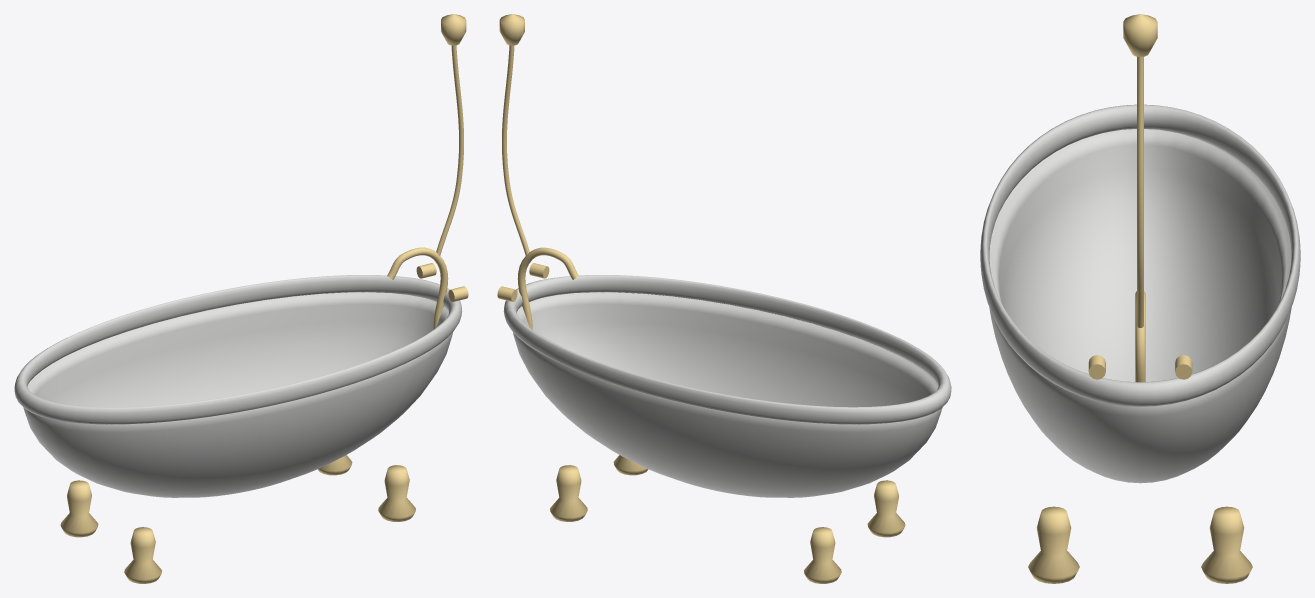
Rendered from bathtub.glb.
The picture shows the model from 3 angles, left to right: view 1: azimuth 30°, elevation 25°; view 2: azimuth 150°, elevation 25°; view 3: azimuth 270°, elevation 25°; orthographic projection. The views are drawn at different scales.
Parts seen in each view (by area): view 1: shell, rim, foot, foot.001, foot.002, shower, spout, hand; view 2: shell, rim, foot.001, foot, foot.003, shower, spout, hand; view 3: shell, rim, foot.002, foot.003, shower, hand, spout.
Boxes of the visible parts, x1=… form: shell: x1=23, y1=292, x2=452, y2=497; rim: x1=14, y1=275, x2=462, y2=424; foot: x1=124, y1=527, x2=161, y2=583; foot.001: x1=60, y1=480, x2=98, y2=537; foot.002: x1=378, y1=465, x2=415, y2=521; shower: x1=436, y1=45, x2=463, y2=255; spout: x1=387, y1=247, x2=448, y2=329; hand: x1=441, y1=14, x2=466, y2=45; shell: x1=513, y1=292, x2=942, y2=497; rim: x1=503, y1=275, x2=951, y2=424; foot.001: x1=804, y1=527, x2=841, y2=583; foot: x1=867, y1=480, x2=905, y2=537; foot.003: x1=550, y1=465, x2=587, y2=521; shower: x1=502, y1=45, x2=529, y2=255; spout: x1=517, y1=247, x2=578, y2=329; hand: x1=499, y1=14, x2=524, y2=45; shell: x1=989, y1=129, x2=1291, y2=483; rim: x1=980, y1=104, x2=1300, y2=406; foot.002: x1=1028, y1=506, x2=1079, y2=583; foot.003: x1=1201, y1=506, x2=1252, y2=583; shower: x1=1137, y1=56, x2=1143, y2=327; hand: x1=1123, y1=14, x2=1157, y2=56; spout: x1=1135, y1=291, x2=1145, y2=382.
Size of the model in its own units: 1.6 by 1.58 by 0.7416.
